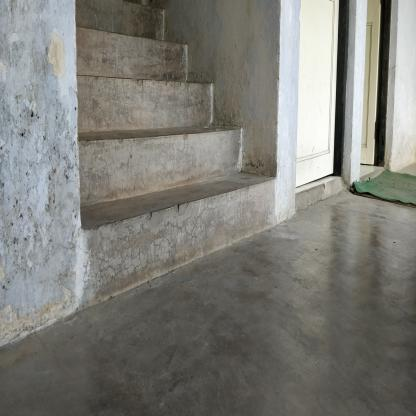stairs: (77, 29, 269, 250)
